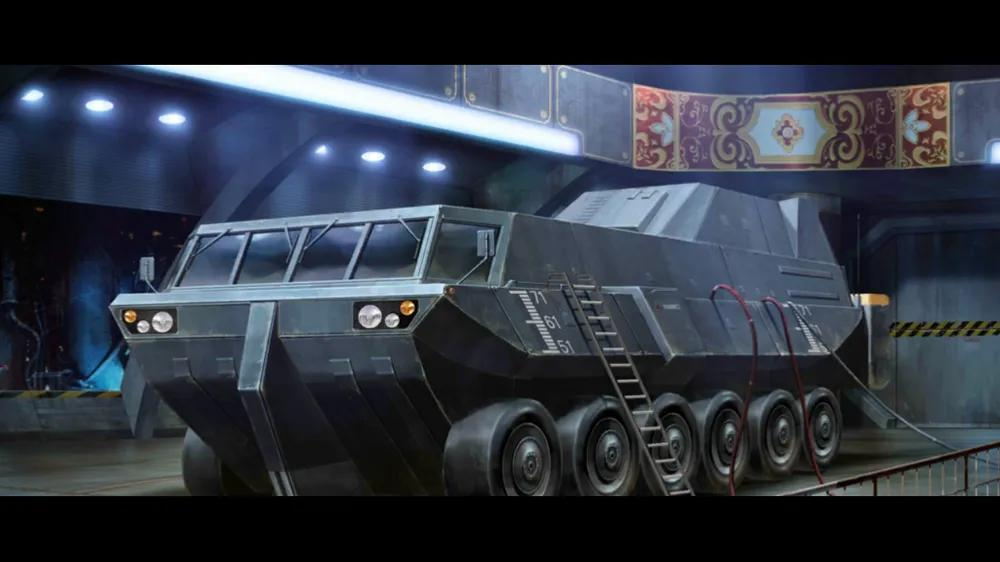MIL_IFV: (108, 181, 867, 497)
